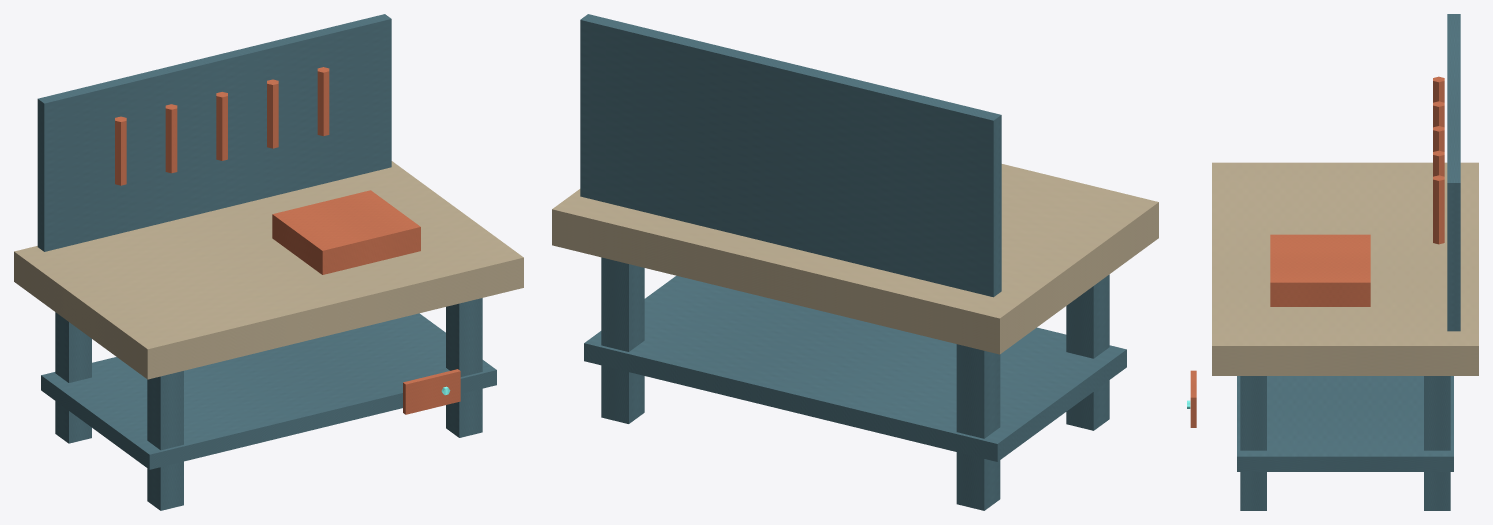
The model's file is atlas100-s046-a06.lod1.glb.
3 views of the same model, side by side, from view 1: azimuth 30°, elevation 25°; view 2: azimuth 150°, elevation 25°; view 3: azimuth 270°, elevation 25° (orthographic). The views are drawn at different scales.
Parts seen in each view (by area): view 1: atlas100-s046-a06:part-004, atlas100-s046-a06:part-006, atlas100-s046-a06:part-005, atlas100-s046-a06:part-012, atlas100-s046-a06:part-001, atlas100-s046-a06:part-003, atlas100-s046-a06:part-000, atlas100-s046-a06:part-013, atlas100-s046-a06:part-011, atlas100-s046-a06:part-008, atlas100-s046-a06:part-010, atlas100-s046-a06:part-007 (+1 smaller); view 2: atlas100-s046-a06:part-006, atlas100-s046-a06:part-005, atlas100-s046-a06:part-004, atlas100-s046-a06:part-000, atlas100-s046-a06:part-002, atlas100-s046-a06:part-001; view 3: atlas100-s046-a06:part-004, atlas100-s046-a06:part-005, atlas100-s046-a06:part-012, atlas100-s046-a06:part-006, atlas100-s046-a06:part-002, atlas100-s046-a06:part-003, atlas100-s046-a06:part-011, atlas100-s046-a06:part-013.
Part boxes in pixels (left/top/right/bottom): atlas100-s046-a06:part-004: left=14, top=161, right=523, bottom=379; atlas100-s046-a06:part-006: left=37, top=14, right=391, bottom=251; atlas100-s046-a06:part-005: left=41, top=313, right=496, bottom=469; atlas100-s046-a06:part-012: left=272, top=190, right=420, bottom=274; atlas100-s046-a06:part-001: left=147, top=371, right=183, bottom=510; atlas100-s046-a06:part-003: left=446, top=298, right=482, bottom=437; atlas100-s046-a06:part-000: left=55, top=312, right=91, bottom=443; atlas100-s046-a06:part-013: left=403, top=369, right=460, bottom=414; atlas100-s046-a06:part-011: left=317, top=67, right=329, bottom=136; atlas100-s046-a06:part-008: left=165, top=104, right=177, bottom=173; atlas100-s046-a06:part-010: left=267, top=79, right=278, bottom=148; atlas100-s046-a06:part-007: left=115, top=116, right=126, bottom=185; atlas100-s046-a06:part-006: left=580, top=14, right=1001, bottom=297; atlas100-s046-a06:part-005: left=584, top=275, right=1126, bottom=461; atlas100-s046-a06:part-004: left=552, top=164, right=1158, bottom=354; atlas100-s046-a06:part-000: left=956, top=344, right=1000, bottom=510; atlas100-s046-a06:part-002: left=601, top=257, right=644, bottom=423; atlas100-s046-a06:part-001: left=1066, top=274, right=1109, bottom=430; atlas100-s046-a06:part-004: left=1212, top=162, right=1478, bottom=375; atlas100-s046-a06:part-005: left=1237, top=376, right=1453, bottom=471; atlas100-s046-a06:part-012: left=1270, top=234, right=1370, bottom=306; atlas100-s046-a06:part-006: left=1447, top=14, right=1460, bottom=331; atlas100-s046-a06:part-002: left=1424, top=376, right=1450, bottom=510; atlas100-s046-a06:part-003: left=1240, top=376, right=1266, bottom=510; atlas100-s046-a06:part-011: left=1433, top=175, right=1444, bottom=244; atlas100-s046-a06:part-013: left=1190, top=370, right=1196, bottom=427.
Size of the model in its own units: 2.6 by 2.21 by 1.75.
Materials: 4 (4 with a texture image).
